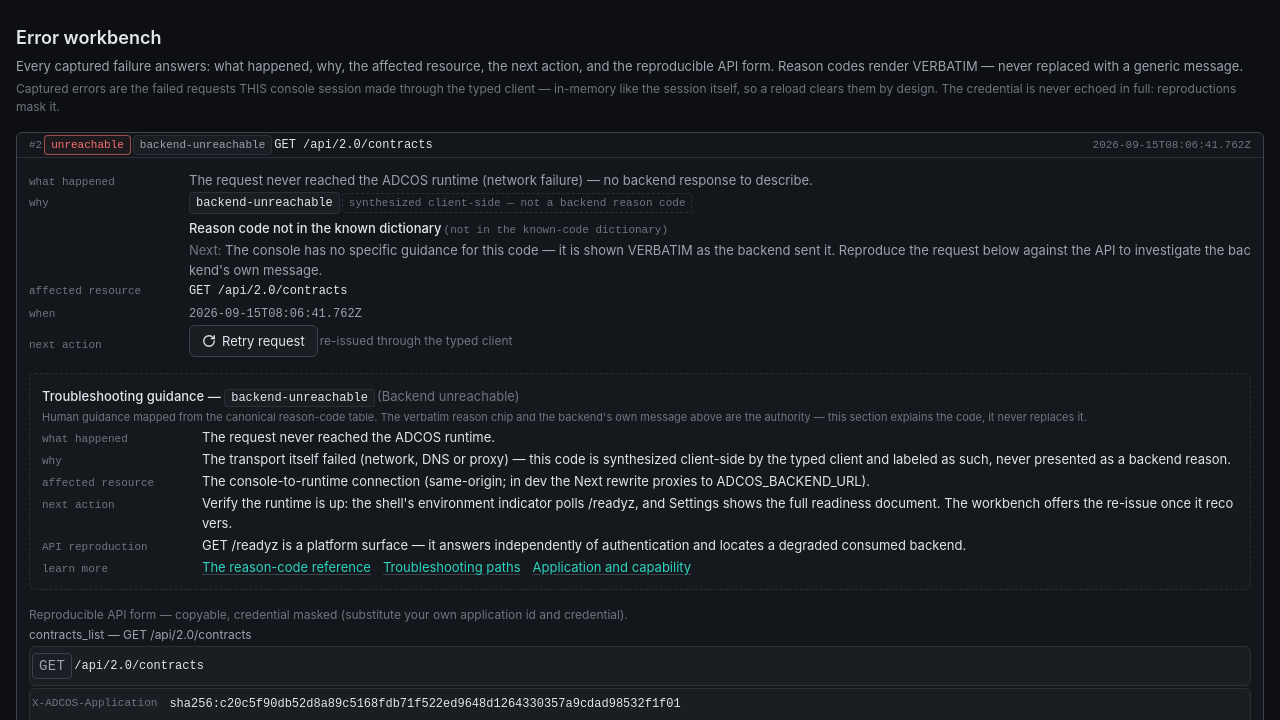
Test: Error workbench › labels synthesized client-side codes as such (backend-unreachable) and offers the retry
Check: the text "unreachable" is shown, box left=44, top=135, right=131, bottom=155
Check: the 1st text with test id "workbench-reason" reads "backend-unreachable", box left=140, top=139, right=265, bottom=151
Note: status 0 → the retry is offered (the classic "backend came back" case)
Click the button with test id "workbench-retry" at coordinates (253, 341), box left=189, top=325, right=318, bottom=357
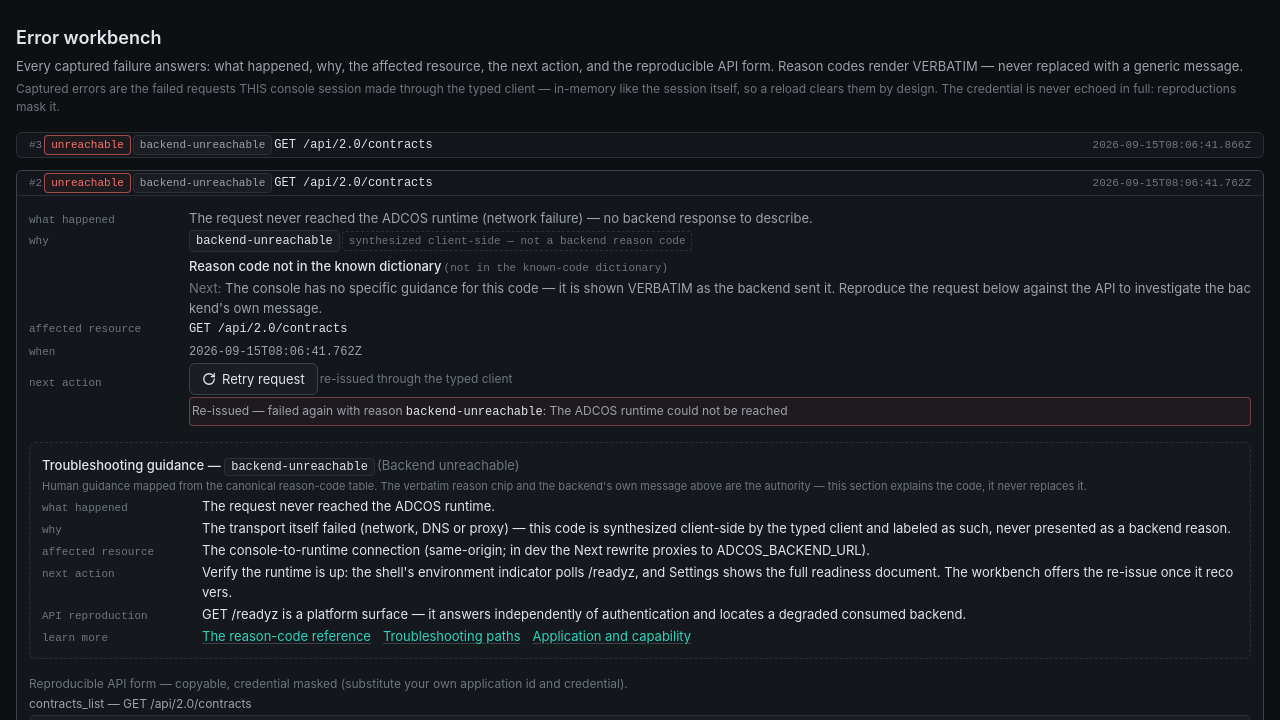
Check: the text "Re-issued — failed again" is shown, box left=192, top=403, right=402, bottom=418
